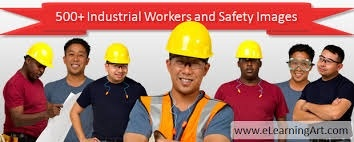helmet: (161, 19, 217, 65), (23, 40, 56, 70), (234, 35, 270, 61), (103, 42, 134, 67)
person with full safety: (155, 19, 223, 134)
person with partial safety: (224, 39, 285, 118), (9, 44, 55, 122), (100, 41, 145, 103)
person without safety: (316, 45, 354, 113), (59, 39, 97, 89), (282, 41, 317, 84)
safety vest: (142, 94, 224, 140)
